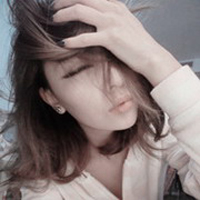face: (53, 26, 144, 129)
